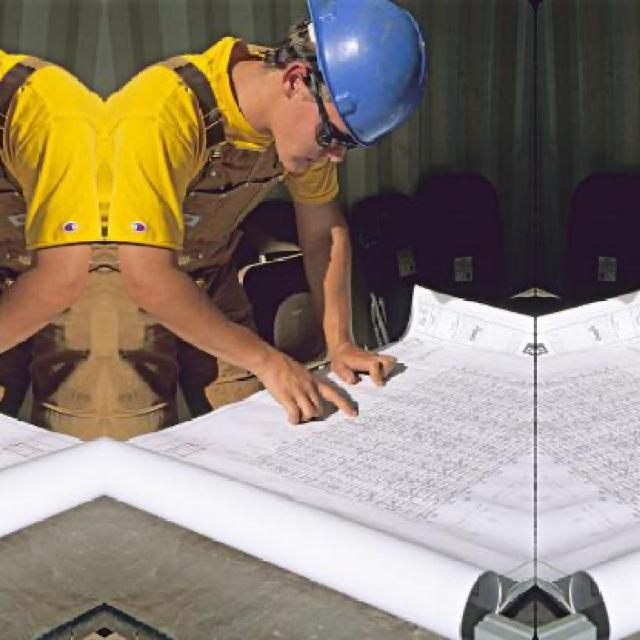helmet: (236, 0, 434, 178)
